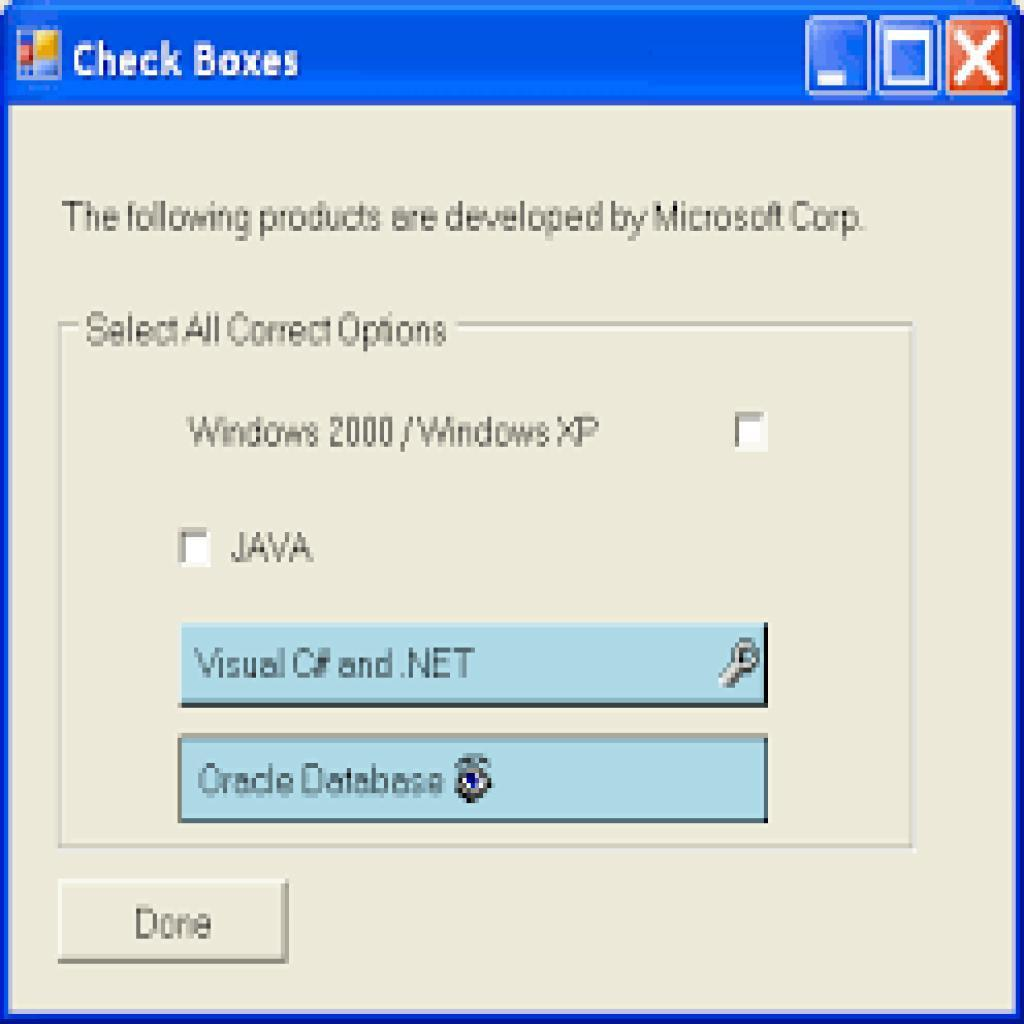button: (63, 879, 286, 961)
checkbox: (737, 415, 766, 452), (183, 533, 209, 568)
input: (181, 740, 769, 823), (184, 626, 766, 709)
label: (185, 405, 608, 459)
